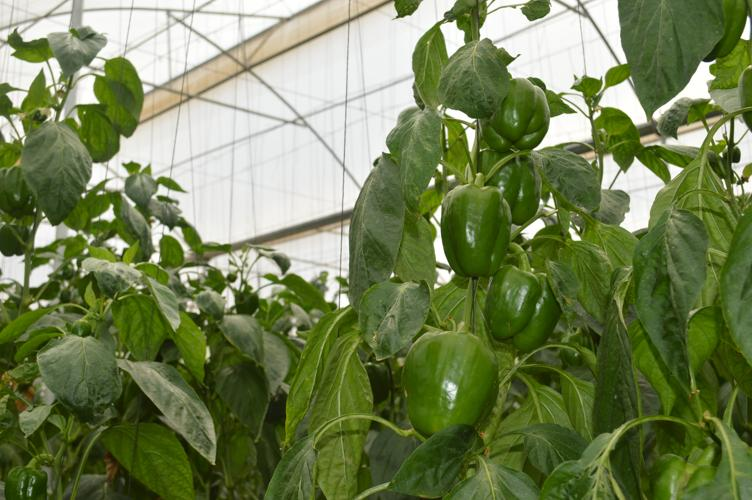BellPepper: (400, 326, 502, 444), (468, 64, 550, 156), (483, 264, 563, 355), (438, 186, 509, 275), (471, 146, 546, 219)
